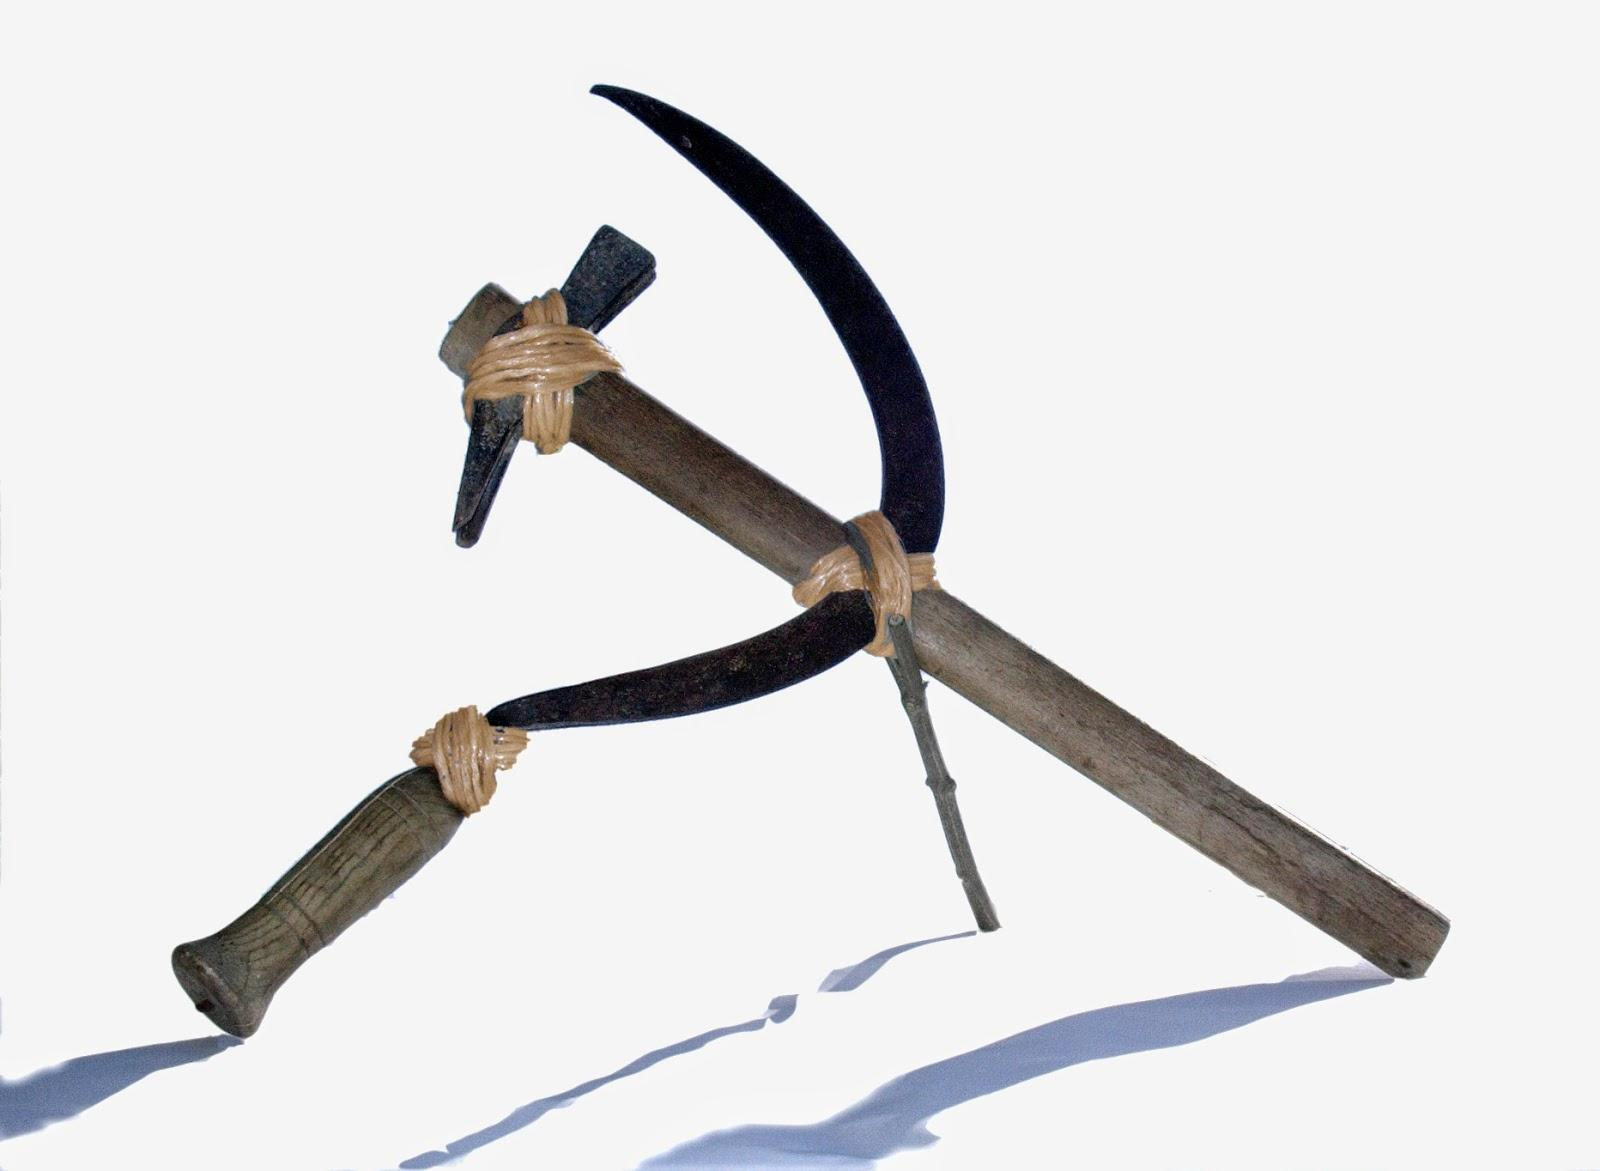foice: (173, 87, 943, 1038)
